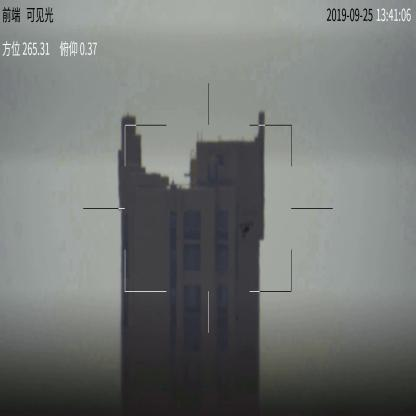uav: (238, 219, 256, 241)
